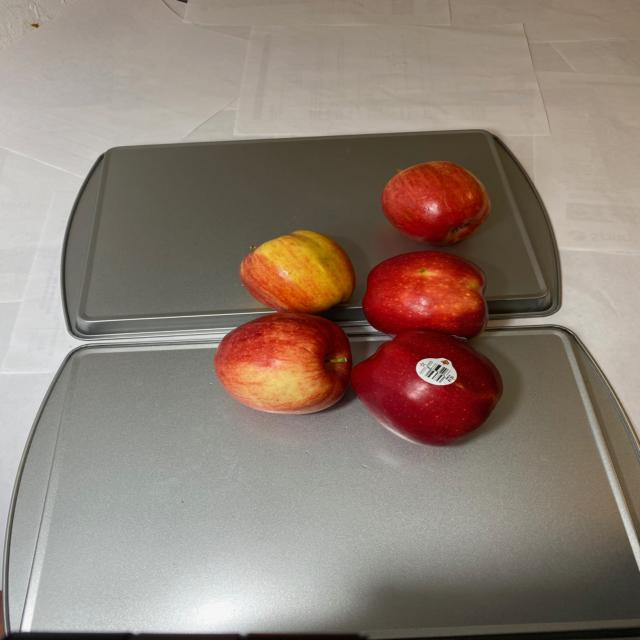apple: (212, 159, 502, 449)
